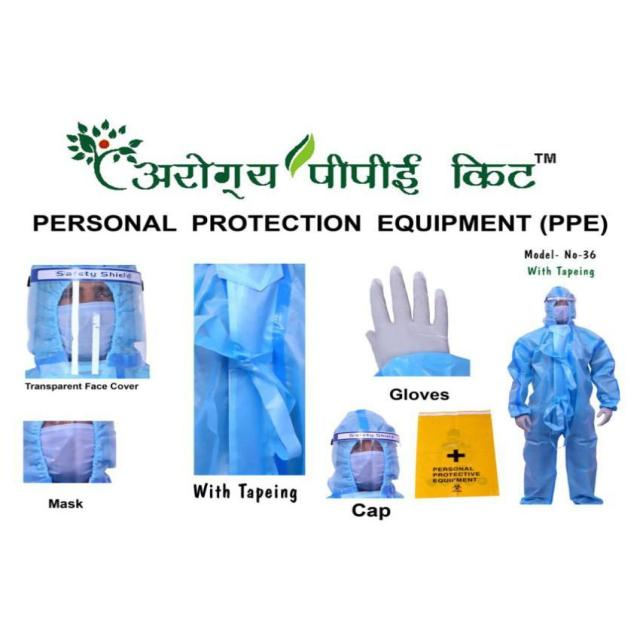Gloves: (349, 260, 467, 375)
